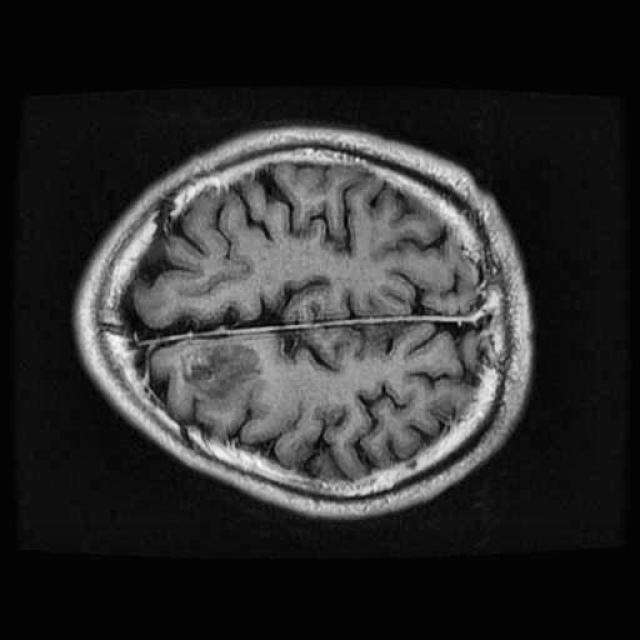Tumor: (172, 339, 268, 409)
